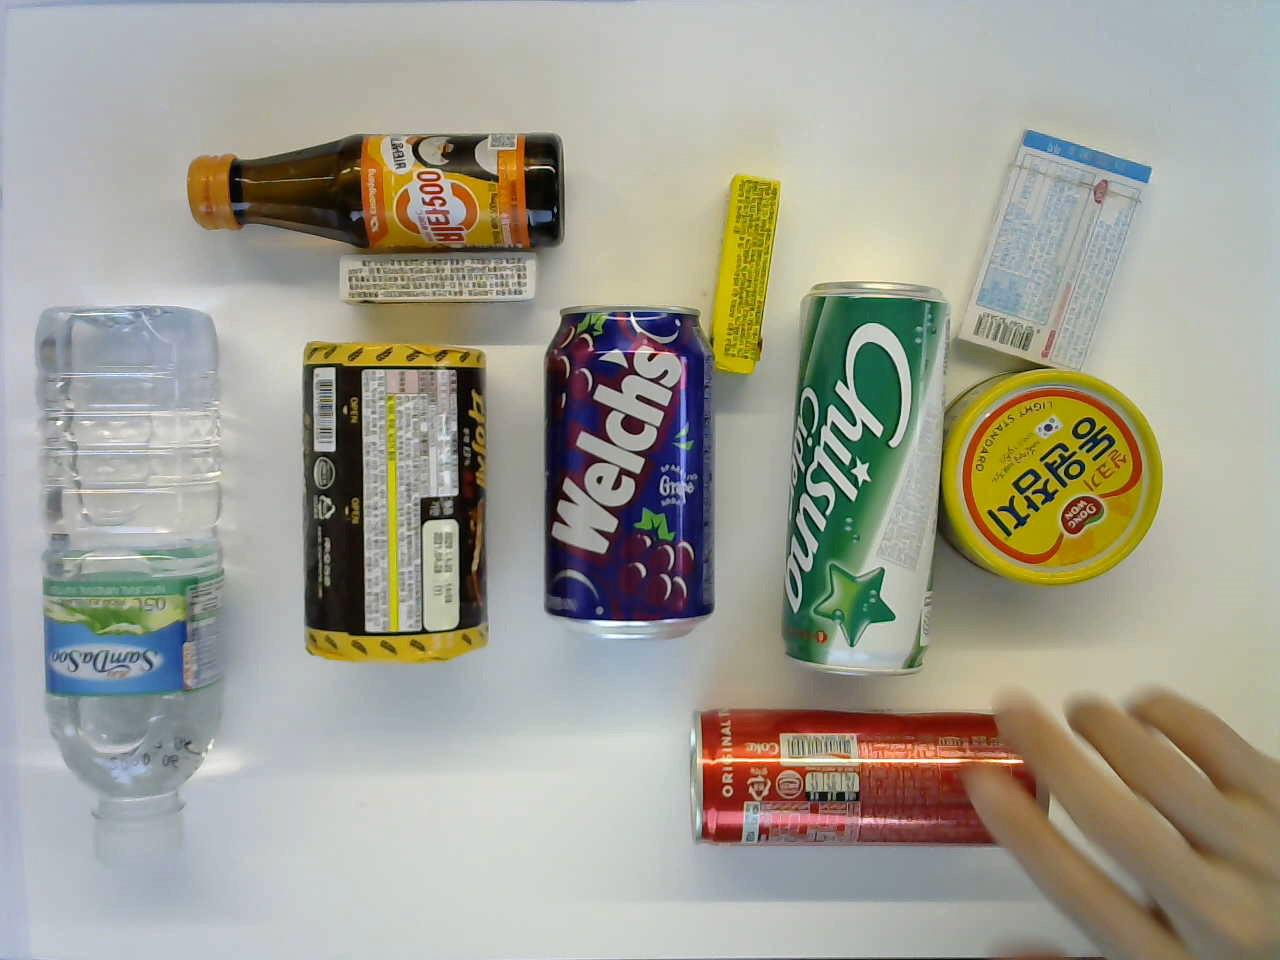ID_gum: (946, 124, 1156, 367)
cidar: (775, 281, 955, 677)
diget_choco: (292, 337, 491, 667)
juicyfresh: (715, 171, 784, 374)
samdasu: (27, 302, 234, 869)
spearmint: (334, 246, 551, 308)
tuna: (935, 364, 1166, 596)
vita500: (189, 129, 566, 246)
welchs: (540, 304, 716, 649)
